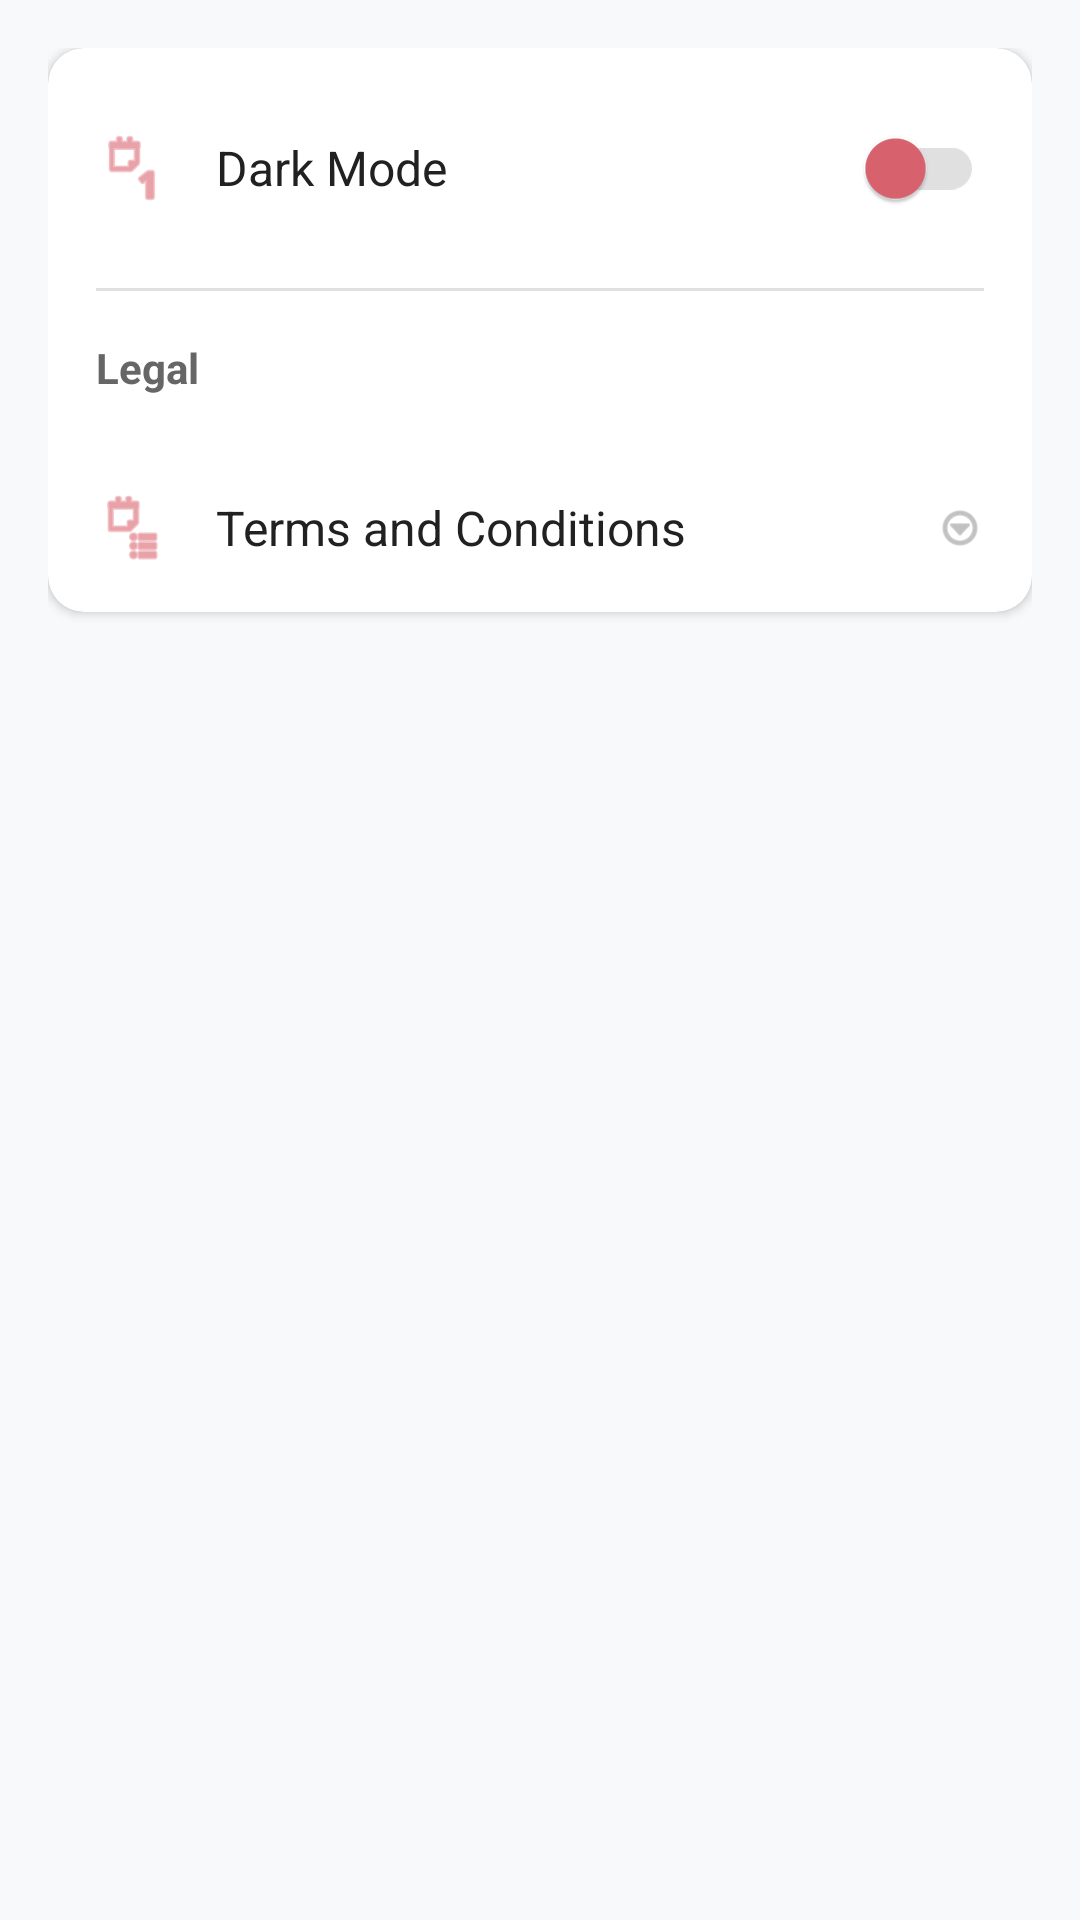

Screen size 1080×1920. Icon name, then its center in pixels as point (x, y):
agenda: point (132, 528)
day: point (131, 168)
